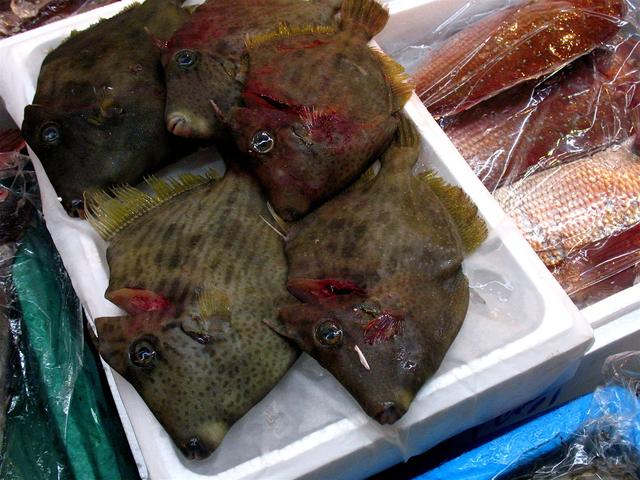fish: (79, 169, 337, 451), (284, 137, 489, 433), (13, 10, 187, 264)
